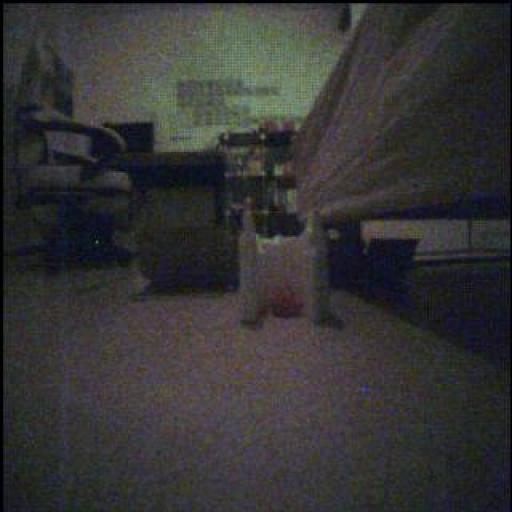basket: (272, 281, 302, 320)
